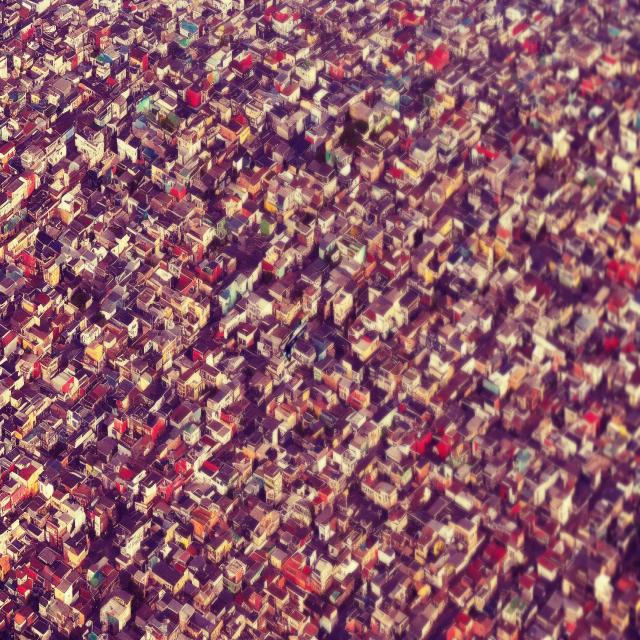airplane: (281, 319, 309, 361)
